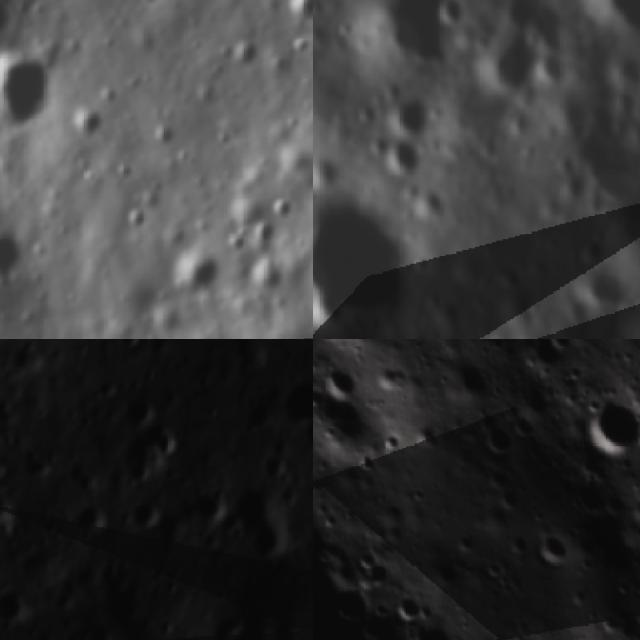crater: (313, 197, 394, 322), (313, 364, 400, 477), (563, 374, 640, 477), (0, 47, 59, 134), (428, 341, 495, 415), (317, 572, 382, 640), (522, 517, 584, 582), (506, 339, 585, 388), (471, 409, 532, 469), (506, 367, 563, 429), (398, 407, 456, 466), (313, 356, 369, 411), (398, 602, 478, 640), (476, 454, 527, 507), (171, 247, 224, 295), (384, 582, 428, 626), (580, 270, 628, 310), (390, 128, 426, 178), (75, 505, 118, 545), (491, 481, 532, 521), (0, 227, 28, 284), (120, 390, 158, 427), (477, 550, 515, 586), (72, 103, 107, 142), (228, 37, 264, 74), (398, 97, 438, 129), (201, 489, 225, 531), (121, 204, 152, 235), (538, 47, 572, 74), (282, 0, 313, 29), (431, 0, 464, 26), (152, 122, 175, 152), (0, 0, 15, 37)
